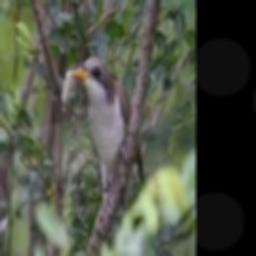Cuckoo: (72, 57, 143, 192)
